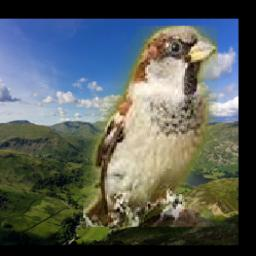Sparrow: (82, 27, 217, 228)
